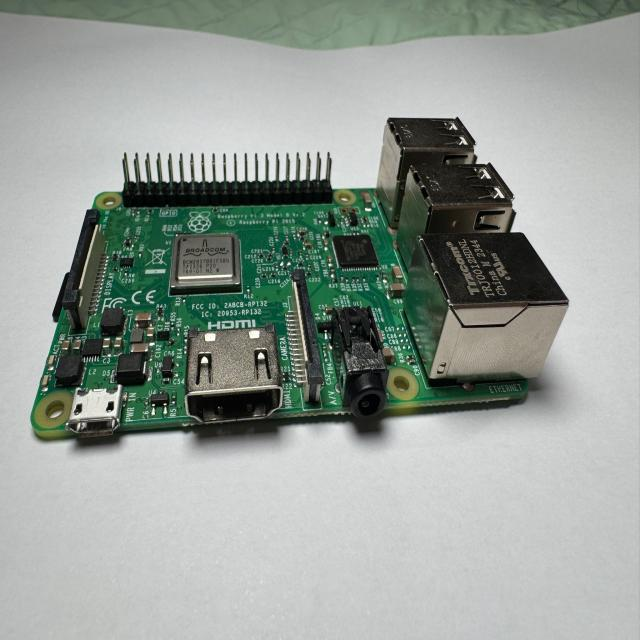CPU: (170, 232, 244, 298)
Ethernet: (422, 232, 567, 388)
GPIO: (121, 151, 334, 208)
HDMI: (185, 326, 283, 427)
RAM-3: (332, 232, 378, 270)
Raspberry: (29, 119, 569, 448)
